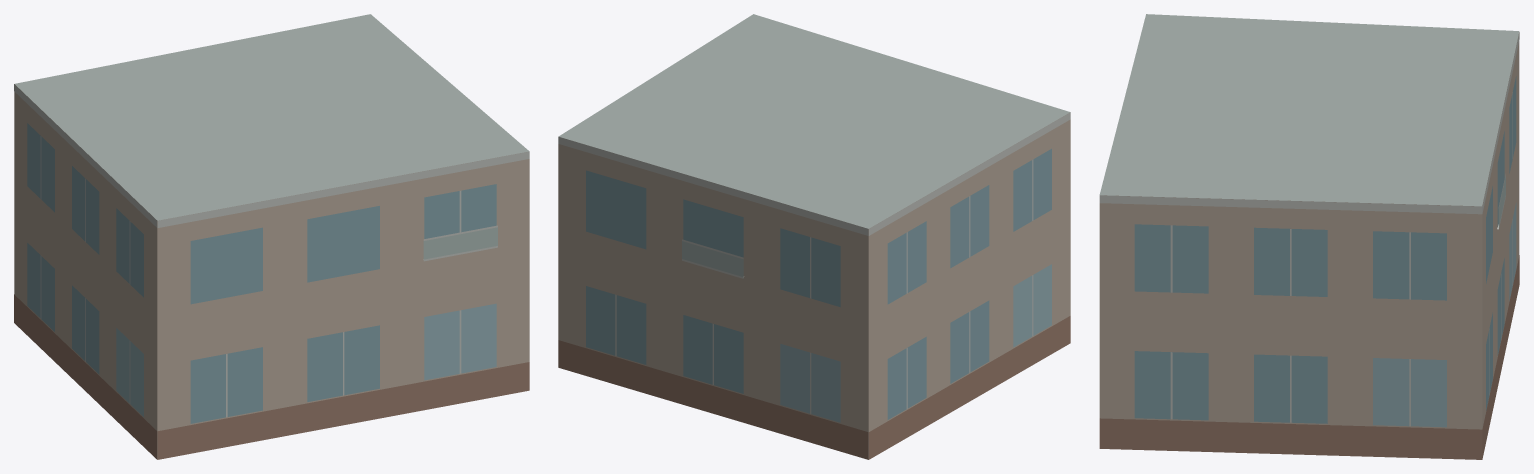
The model's file is survey-upis-32636252.glb.
3 renders of one model, left to right at view 1: azimuth 30°, elevation 25°; view 2: azimuth 150°, elevation 25°; view 3: azimuth 270°, elevation 25°, orthographic. The views are drawn at different scales.
Visible parts, largest first — view 1: survey-upis-32636252.tmp; view 2: survey-upis-32636252.tmp; view 3: survey-upis-32636252.tmp.
Boxes of the visible parts, bbox=[...] form: survey-upis-32636252.tmp: bbox=[14, 14, 529, 459]; survey-upis-32636252.tmp: bbox=[558, 14, 1070, 459]; survey-upis-32636252.tmp: bbox=[1099, 14, 1519, 459].
Size of the model in its own units: 12.7 by 7.8 by 11.72.
